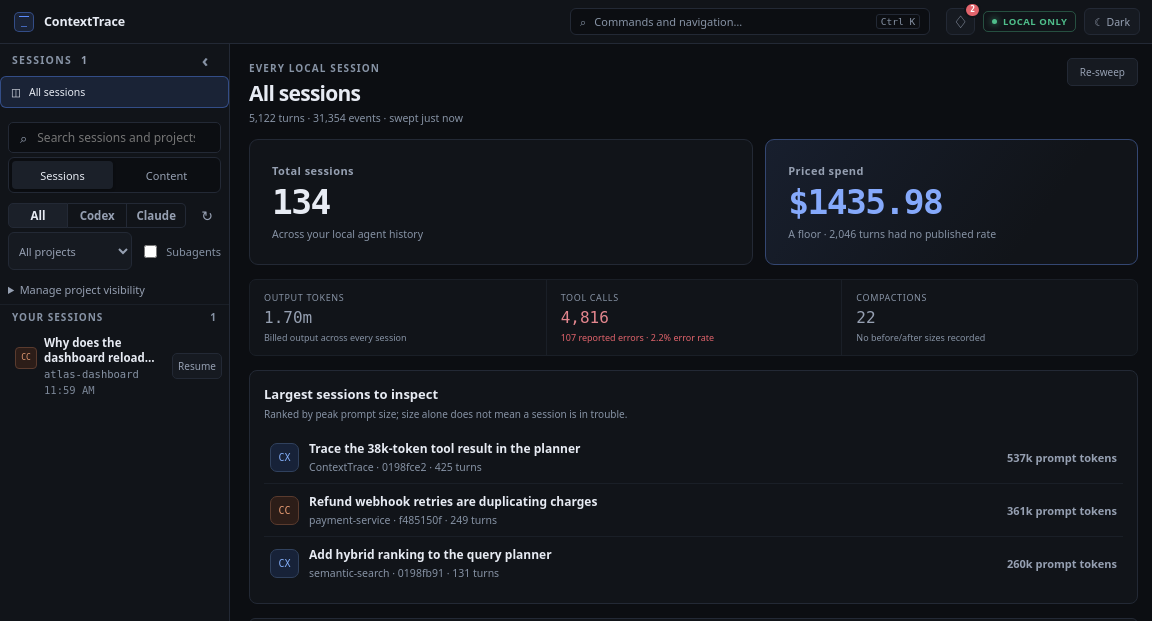
Test case: desktop accessibility and state handling › renders a refused fit as the answer instead of charting a fabricated line
What coordinates should you click on to do the following:
click the button with aria-label "Claude Code session: Why does the dashboard reload twice on"
I would click on:
 (87, 366)
Its box is [4,328,170,403].
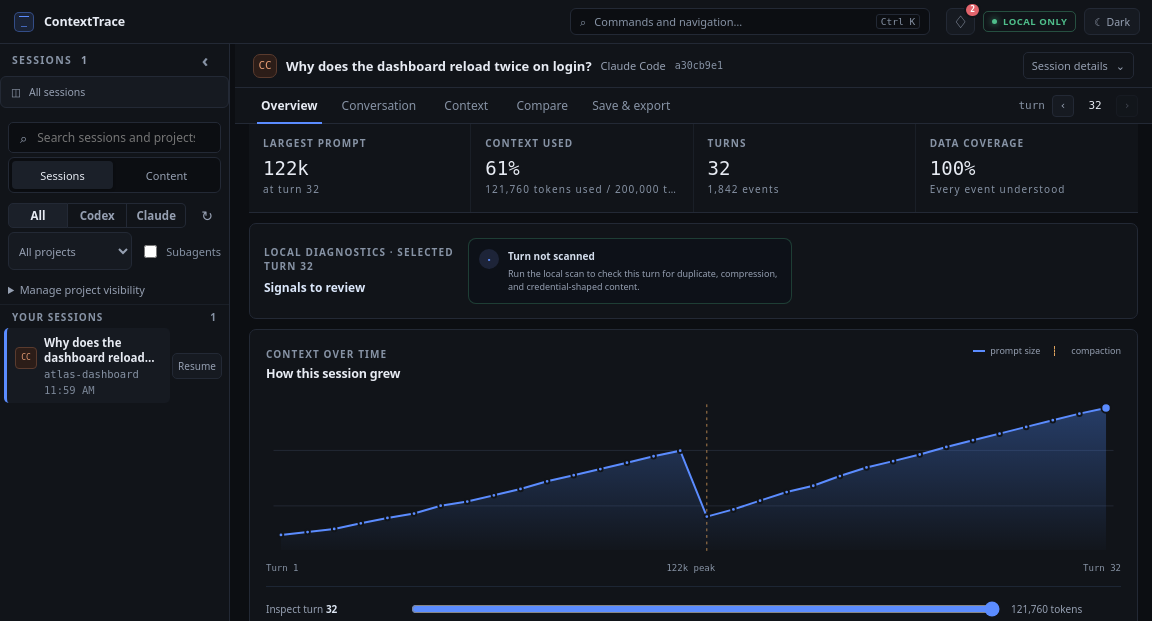
Check: the tab "Context" is enabled
What coordinates should you click on to do the following:
click the tab "Context"
I would click on:
 (466, 106)
Its box is [428,88,504,123].
(page scrolled)
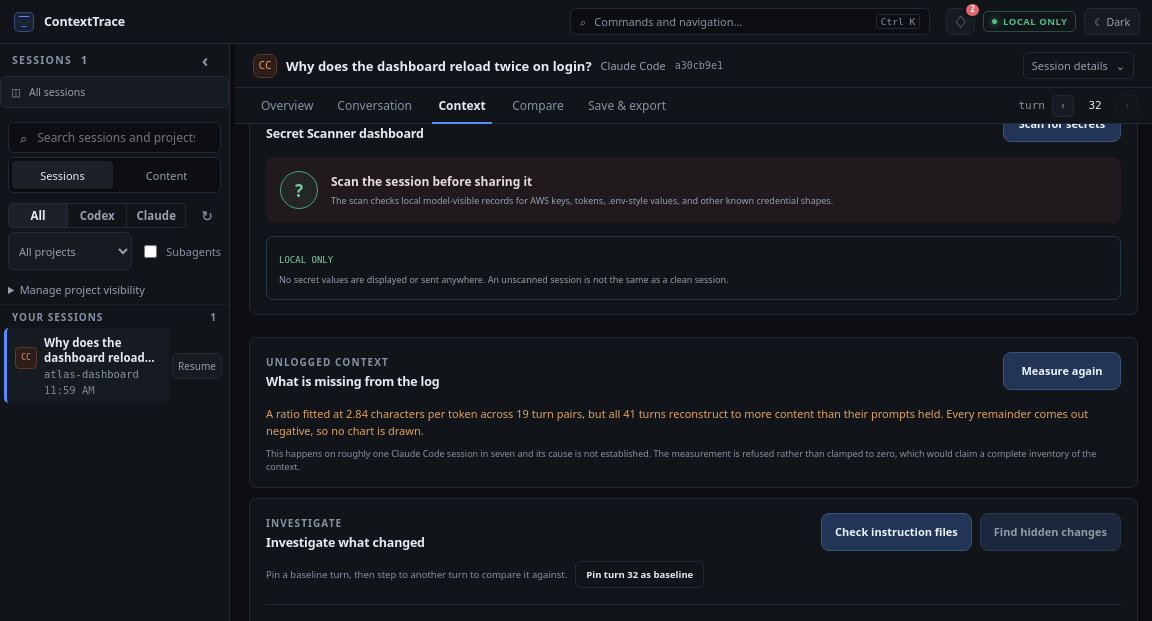
Check: the text "all 41 turns reconstruct to more content than their prompts held" is shown, box [266,405,1121,439]
